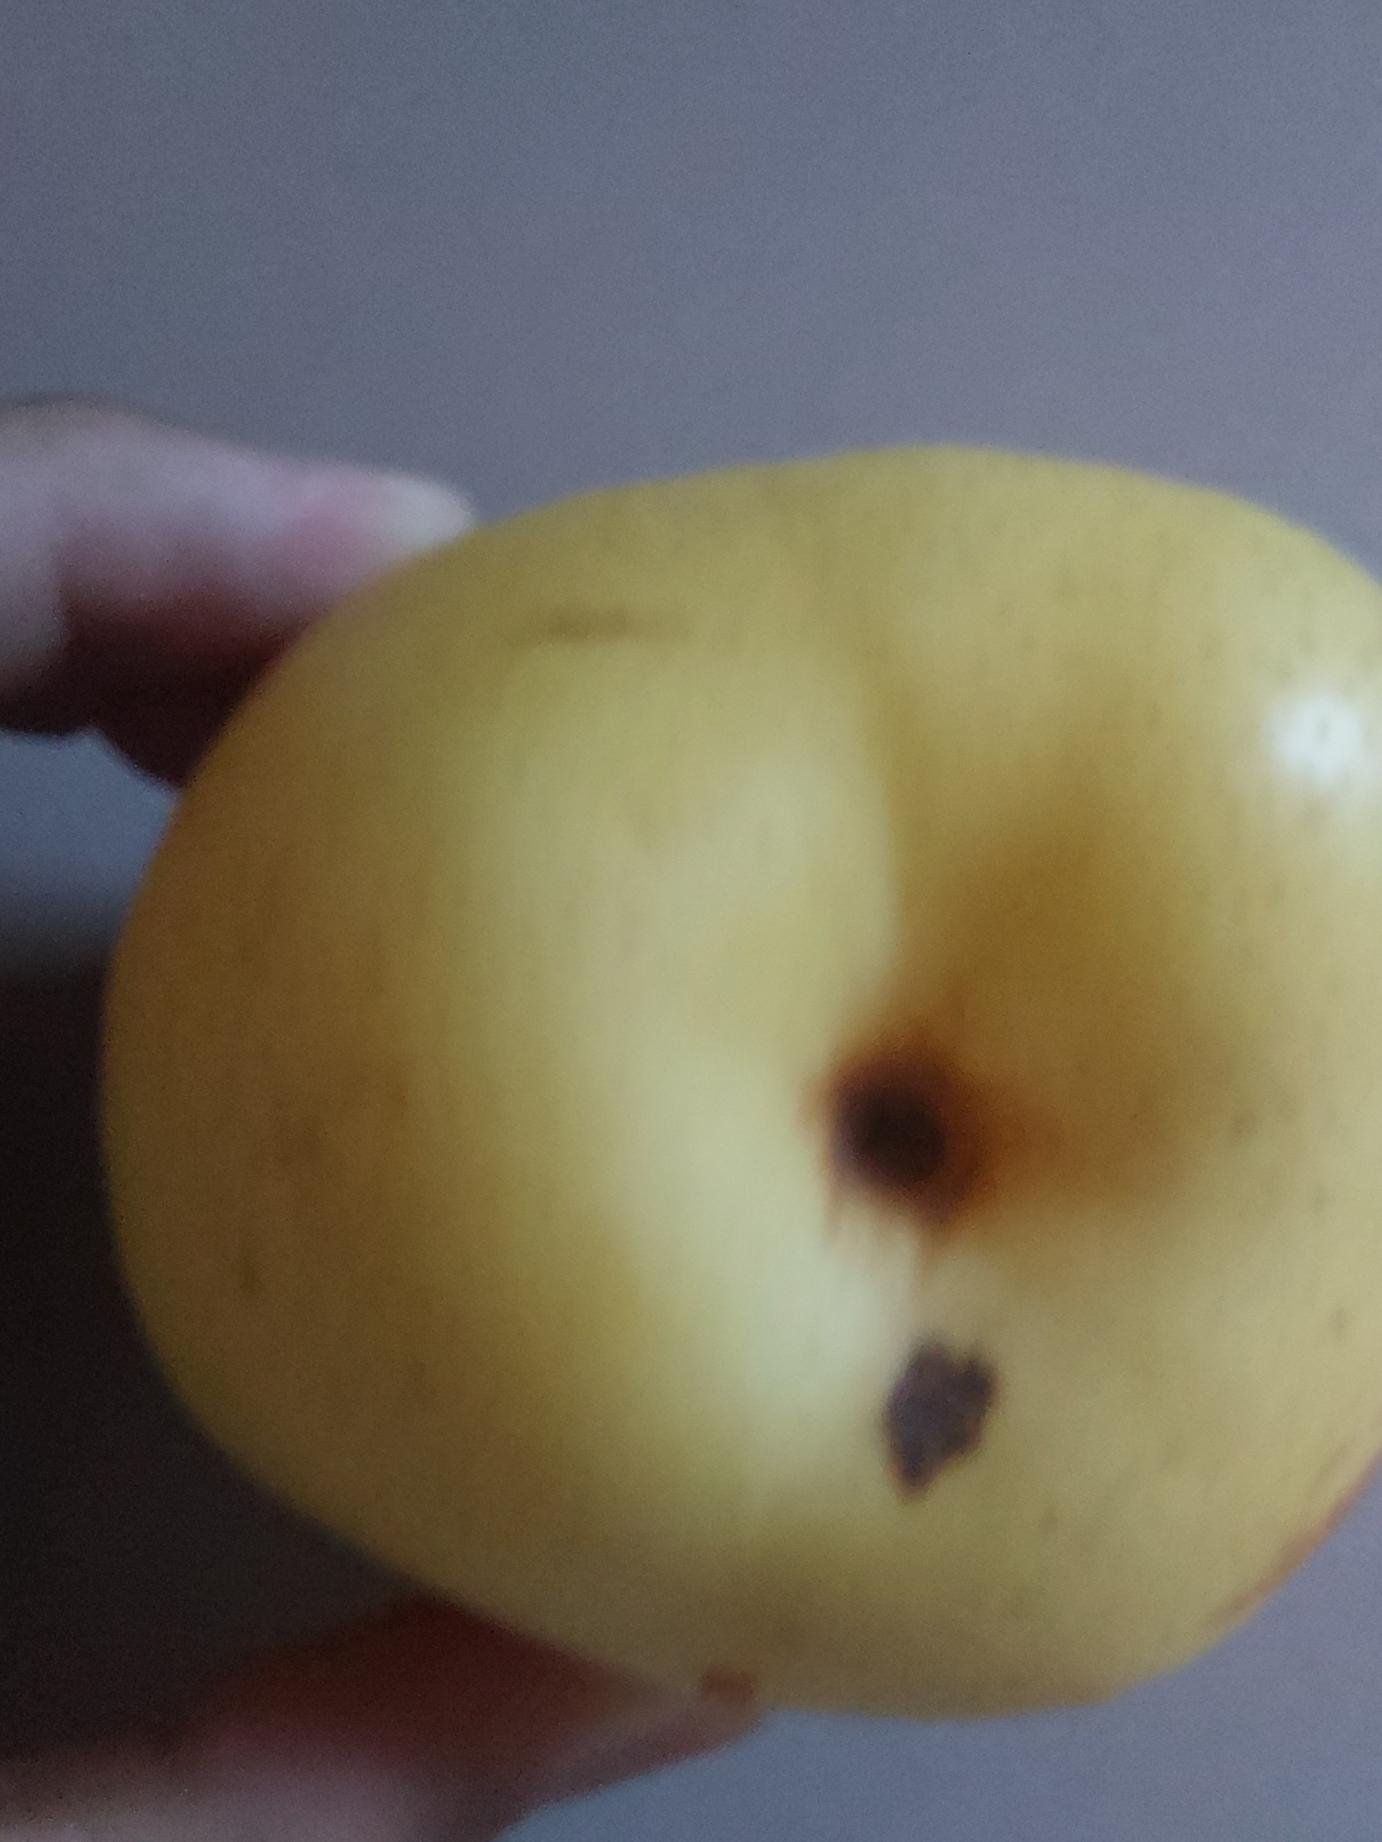Good Pear: (105, 437, 1382, 1714)
